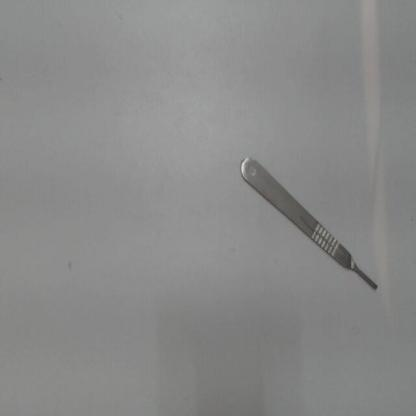No.3 BP Handle: (237, 131, 384, 300)
